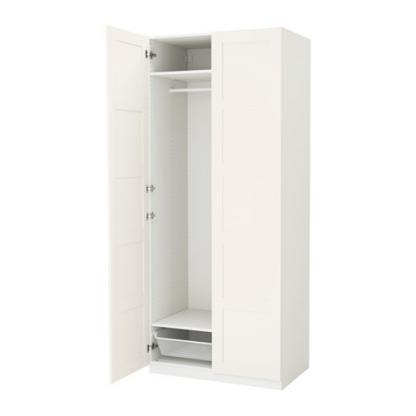Cabinet: (104, 18, 314, 393)
